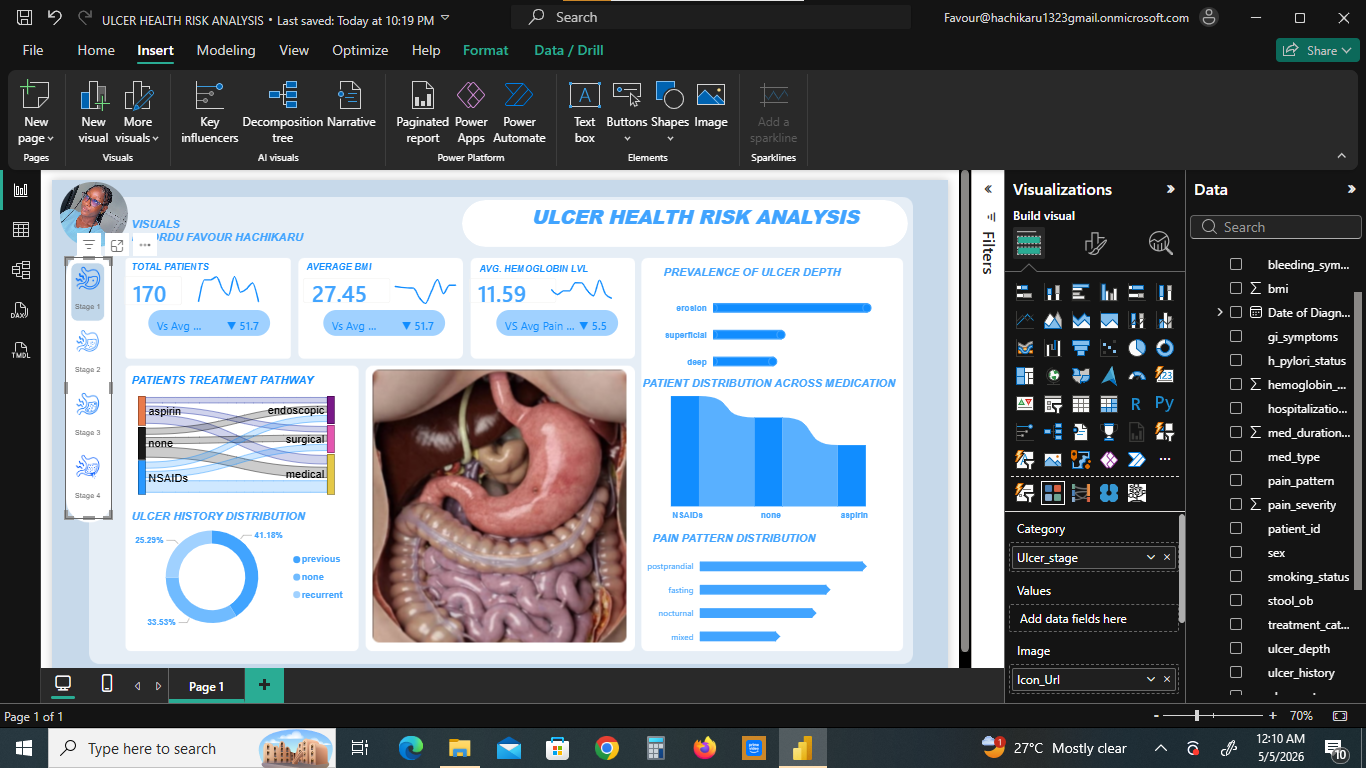

The dashboard page shown, as its layout file describes it:
{"tool":"powerbi","page":{"name":"Page 1","canvas":[1280,720],"ordinal":0},"visuals":[{"type":"ChicletSlicer1448559807354","fields":{"Category":["Ulcer Image Dataset.Ulcer_stage"],"Image":["Ulcer Image Dataset.Icon_Url"]},"box":[18.8,109.9,66.5,374.5],"z":0},{"type":"imageDB603108E3FF4EBFB8047F5653368E8C","fields":{"imageUrl":["Ulcer Image Dataset.Image_Url"]},"box":[452.5,266,373,400.5],"z":1000},{"type":"sankey02300D1BE6F5427989F3DE31CCA9E0F32020","title":"PATIENTS TREATMENT PATHWAY","fields":{"Destination":["Ulcer Dataset.treatment_category"],"Weight":["CountNonNull(Ulcer Dataset.patient_id)"],"Source":["Ulcer Dataset.med_type"]},"box":[108.4,277.6,321,189.4],"z":2000},{"type":"cardVisual","fields":{"Data":["Count(Ulcer Dataset.patient_id)"]},"box":[108.4,95.4,232.8,156.1],"z":3000},{"type":"cardVisual","fields":{"Data":["Count(Ulcer Dataset.patient_id)"]},"box":[85.3,120,117.1,76.6],"z":4000},{"type":"lineChart","fields":{"Y":["CountNonNull(Ulcer Dataset.patient_id)"],"Category":["Ulcer Dataset.Date of Diagnosis.Variation.Date Hierarchy.Year"]},"box":[193.7,120,115.7,63.6],"z":5000},{"type":"textbox","box":[108.4,109.9,124.3,30.4],"z":6000},{"type":"cardVisual","fields":{"Data":["Count(Ulcer Dataset.patient_id)"]},"box":[358.6,95.4,232.8,156.1],"z":7000},{"type":"cardVisual","fields":{"Data":["Avg(Ulcer Dataset.bmi)"]},"box":[341.2,122.9,159,70.8],"z":8000},{"type":"lineChart","fields":{"Y":["Avg(Ulcer Dataset.bmi)"],"Category":["Ulcer Dataset.Date of Diagnosis.Variation.Date Hierarchy.Year"]},"box":[475.7,120,115.7,63.6],"z":9000},{"type":"textbox","box":[358.6,109.9,125.8,30.4],"z":10000},{"type":"cardVisual","fields":{"Data":["Count(Ulcer Dataset.patient_id)"]},"box":[605.8,95.4,232.8,156.1],"z":11000},{"type":"cardVisual","fields":{"Data":["Avg(Ulcer Dataset.hemoglobin_g_dl)"]},"box":[578.3,122.9,159,70.8],"z":12000},{"type":"lineChart","fields":{"Category":["Ulcer Dataset.Date of Diagnosis.Variation.Date Hierarchy.Year"],"Y":["Avg(Ulcer Dataset.hemoglobin_g_dl)"]},"box":[698.3,122.9,115.7,63.6],"z":13000},{"type":"textbox","box":[605.8,112.8,185.1,27.5],"z":14000},{"type":"donutChart","fields":{"Category":["Ulcer Dataset.ulcer_history"],"Y":["CountNonNull(Ulcer Dataset.patient_id)"]},"box":[108.4,467,321,199.5],"z":14001},{"type":"textbox","box":[108.4,467,315.2,31.8],"z":14002},{"type":"barChart","title":"PREVALENCE OF  ULCER DEPTH","fields":{"Category":["Ulcer Dataset.ulcer_depth"],"Y":["CountNonNull(Ulcer Dataset.patient_id)"]},"box":[868.6,122.9,317.1,172.9],"z":14003},{"type":"ribbonChart","fields":{"Category":["Ulcer Dataset.med_type"],"Y":["CountNonNull(Ulcer Dataset.patient_id)"]},"box":[831.4,277.1,391.4,217.1],"z":14004},{"type":"textbox","box":[838.6,277.1,372.9,42.9],"z":14005},{"type":"barChart","fields":{"Category":["Ulcer Dataset.pain_pattern"],"Y":["CountNonNull(Ulcer Dataset.patient_id)"]},"box":[838.6,512.9,391.4,171.4],"z":14006},{"type":"textbox","box":[852.9,498.6,262.9,30],"z":14007},{"type":"shape","box":[585.7,28.6,637.1,67.1],"z":14008},{"type":"textbox","box":[638.6,28.6,560,67.1],"z":14009},{"type":"image","box":[11.4,2.9,97.1,92.9],"z":14010},{"type":"textbox","box":[108.6,50,291.4,45.7],"z":14011}]}

Visuals, with their boxes on the page's 1280x720 design canvas (x1, y1, x2, y2). These are canvas units, not pixel positions in the 1366x768 screenshot, which may show the page scaled, cropped or inside an application window:
ChicletSlicer1448559807354 - Ulcer Image Dataset.Ulcer_stage x Ulcer Image Dataset.Icon_Url: pyautogui.locateOnScreen(19, 110, 85, 484)
imageDB603108E3FF4EBFB8047F5653368E8C - Ulcer Image Dataset.Image_Url: pyautogui.locateOnScreen(452, 266, 826, 666)
"PATIENTS TREATMENT PATHWAY" sankey02300D1BE6F5427989F3DE31CCA9E0F32020: pyautogui.locateOnScreen(108, 278, 429, 467)
cardVisual - Count(Ulcer Dataset.patient_id): pyautogui.locateOnScreen(108, 95, 341, 252)
cardVisual - Count(Ulcer Dataset.patient_id): pyautogui.locateOnScreen(85, 120, 202, 197)
lineChart - CountNonNull(Ulcer Dataset.patient_id) x Ulcer Dataset.Date of Diagnosis.Variation.Date Hierarchy.Year: pyautogui.locateOnScreen(194, 120, 309, 184)
textbox: pyautogui.locateOnScreen(108, 110, 233, 140)
cardVisual - Count(Ulcer Dataset.patient_id): pyautogui.locateOnScreen(359, 95, 591, 252)
cardVisual - Avg(Ulcer Dataset.bmi): pyautogui.locateOnScreen(341, 123, 500, 194)
lineChart - Avg(Ulcer Dataset.bmi) x Ulcer Dataset.Date of Diagnosis.Variation.Date Hierarchy.Year: pyautogui.locateOnScreen(476, 120, 591, 184)
textbox: pyautogui.locateOnScreen(359, 110, 484, 140)
cardVisual - Count(Ulcer Dataset.patient_id): pyautogui.locateOnScreen(606, 95, 839, 252)
cardVisual - Avg(Ulcer Dataset.hemoglobin_g_dl): pyautogui.locateOnScreen(578, 123, 737, 194)
lineChart - Ulcer Dataset.Date of Diagnosis.Variation.Date Hierarchy.Year x Avg(Ulcer Dataset.hemoglobin_g_dl): pyautogui.locateOnScreen(698, 123, 814, 186)
textbox: pyautogui.locateOnScreen(606, 113, 791, 140)
donutChart - Ulcer Dataset.ulcer_history x CountNonNull(Ulcer Dataset.patient_id): pyautogui.locateOnScreen(108, 467, 429, 666)
textbox: pyautogui.locateOnScreen(108, 467, 424, 499)
"PREVALENCE OF  ULCER DEPTH" barChart: pyautogui.locateOnScreen(869, 123, 1186, 296)
ribbonChart - Ulcer Dataset.med_type x CountNonNull(Ulcer Dataset.patient_id): pyautogui.locateOnScreen(831, 277, 1223, 494)
textbox: pyautogui.locateOnScreen(839, 277, 1212, 320)
barChart - Ulcer Dataset.pain_pattern x CountNonNull(Ulcer Dataset.patient_id): pyautogui.locateOnScreen(839, 513, 1230, 684)
textbox: pyautogui.locateOnScreen(853, 499, 1116, 529)
shape: pyautogui.locateOnScreen(586, 29, 1223, 96)
textbox: pyautogui.locateOnScreen(639, 29, 1199, 96)
image: pyautogui.locateOnScreen(11, 3, 108, 96)
textbox: pyautogui.locateOnScreen(109, 50, 400, 96)
